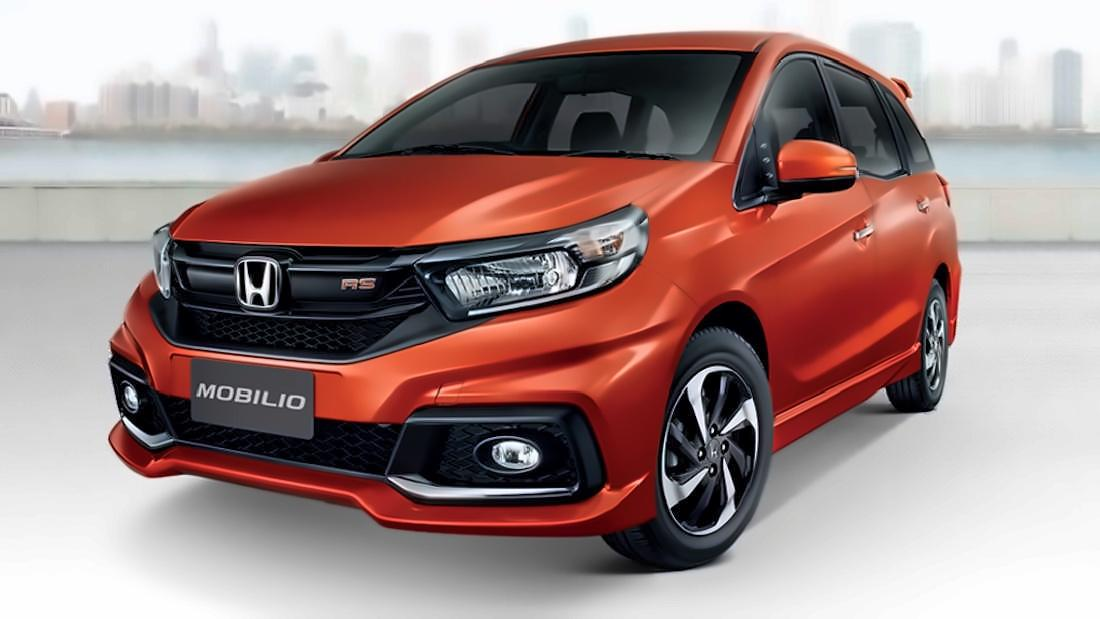Car hood: (156, 146, 732, 245)
Fender - -F-L-: (633, 155, 775, 503)
Front bumper: (103, 269, 700, 538)
Headlight - -L-: (414, 202, 651, 331)
Headlight - -R-: (150, 215, 176, 304)
Passenger-s door - -F-L-: (735, 25, 888, 457)
Passenger-s door - -R-L-: (807, 28, 943, 453)
Side bumper - -L-: (764, 323, 925, 476)
Side mirror - -L-: (747, 131, 857, 223)
